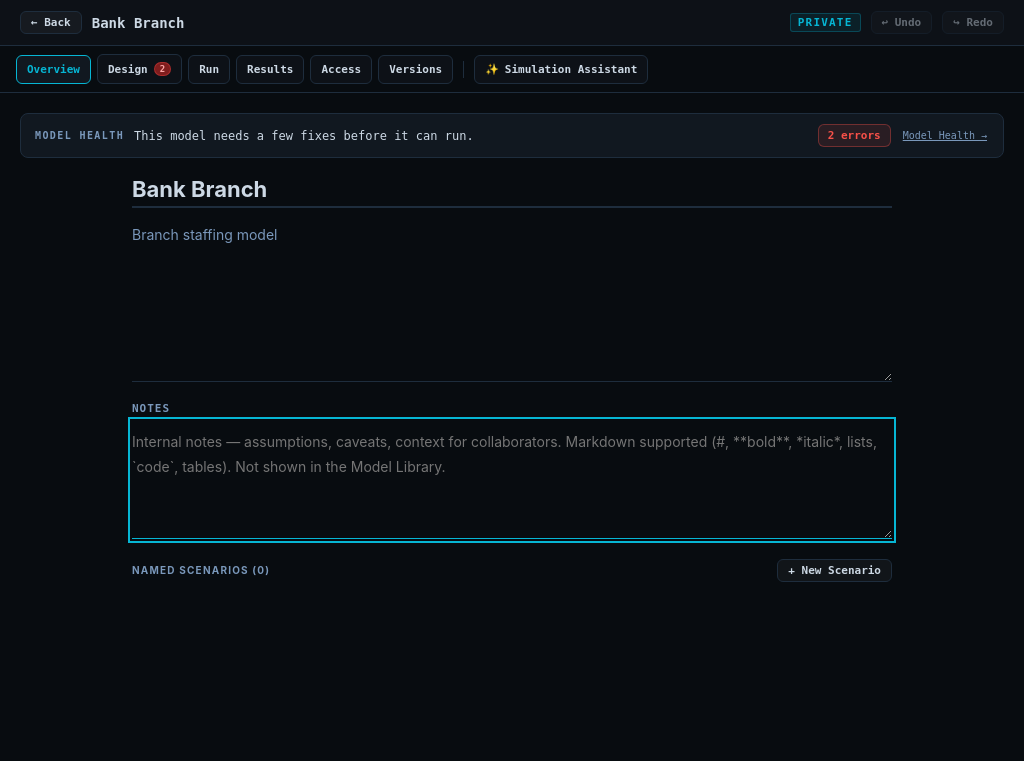
Business view curation (exposedParams) › exposes a container capacity/initial-level param and shows the unbounded-capacity tip
Click the button "Access" at x=341, y=69, box [310,54,372,84]
(page scrolled)
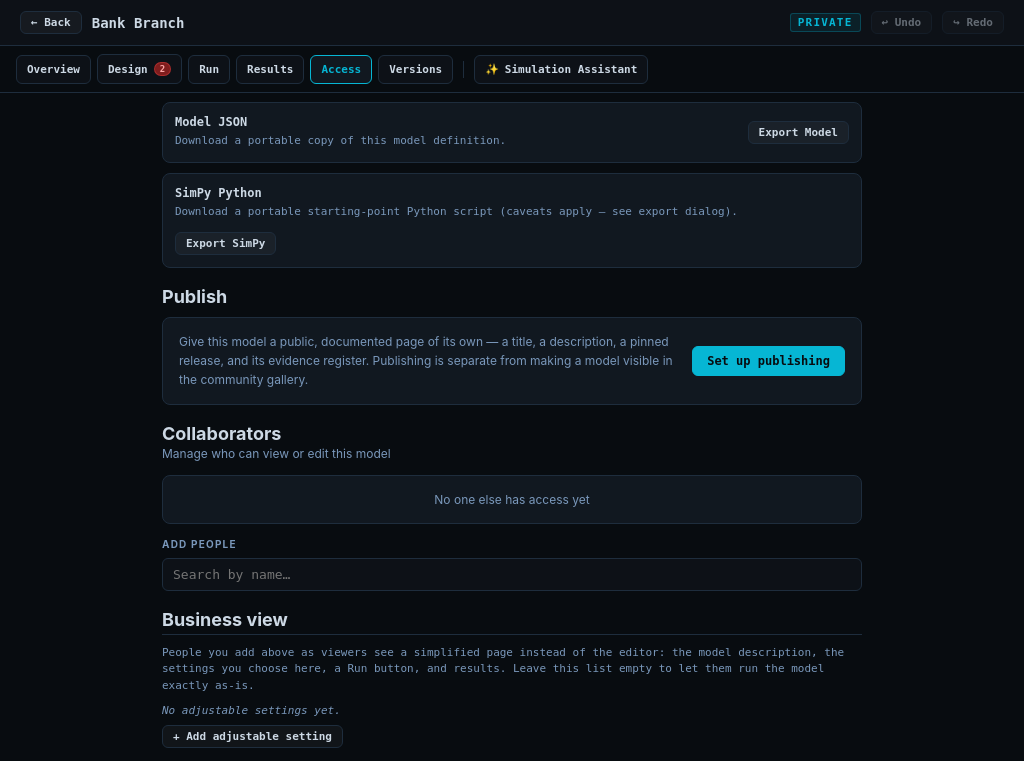
Now the text "Business view" is shown, box [162,609,862,635]
Click the button with aria-label "add an adjustable setting" at x=252, y=737, box [162,725,343,748]
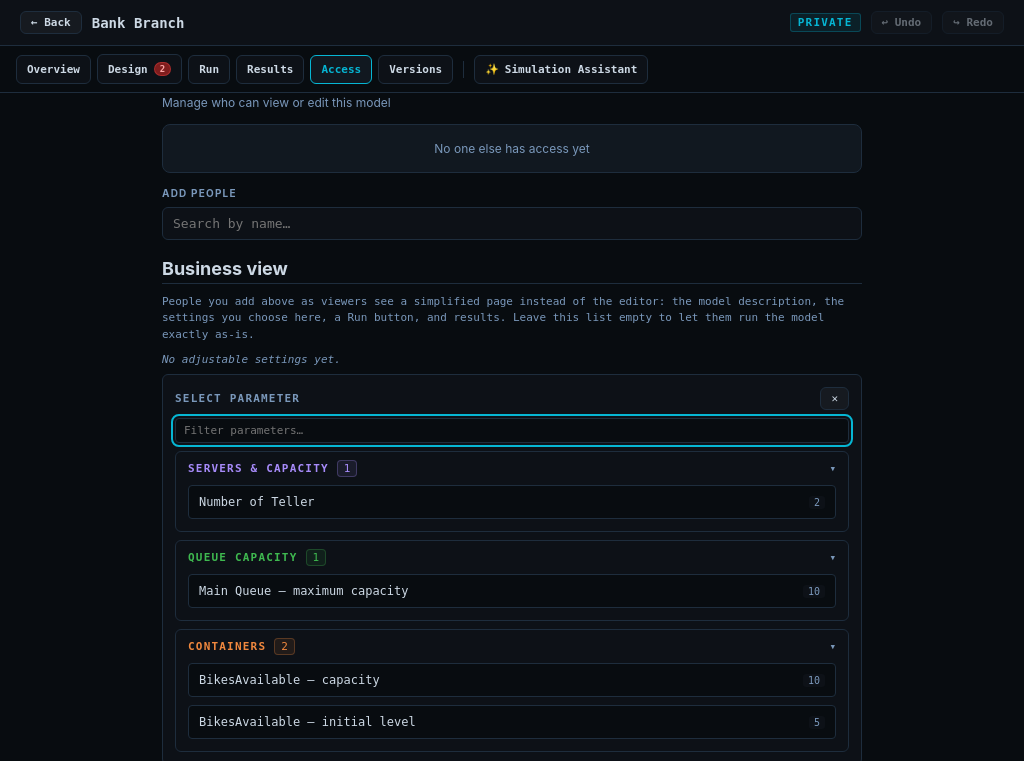
Type "bikesavailable — capacity" into the field with placeholder "Filter parameters…" at x=512, y=431, box [175,418,849,443]
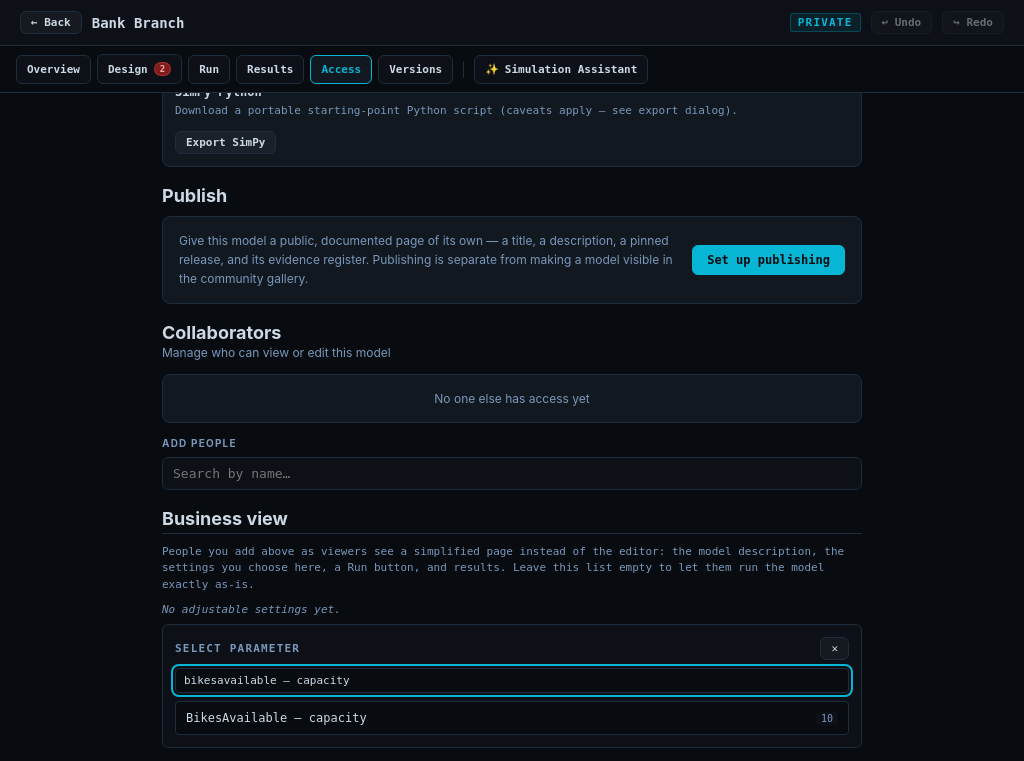
Click the button "BikesAvailable — capacity 10" at x=276, y=718, box [175,701,849,735]
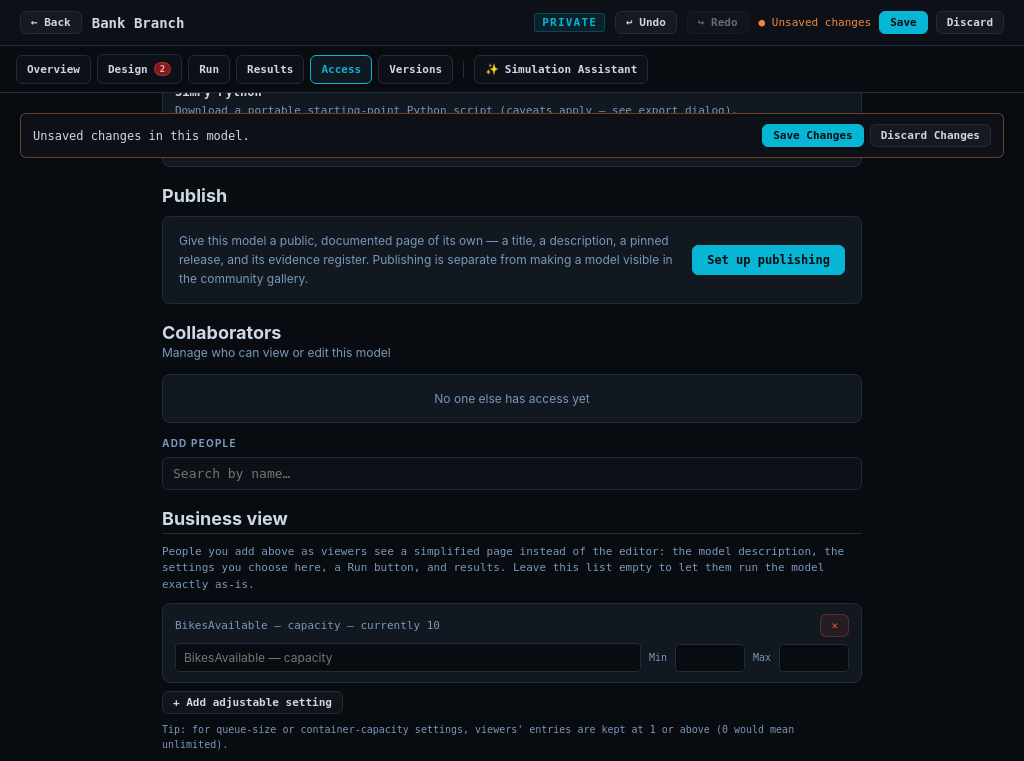
Now the text "BikesAvailable — capacity — currently 10" is shown, box [175,619,440,632]
Now the text "queue-size or container-capacity settings" is shown, box [162,724,794,750]
